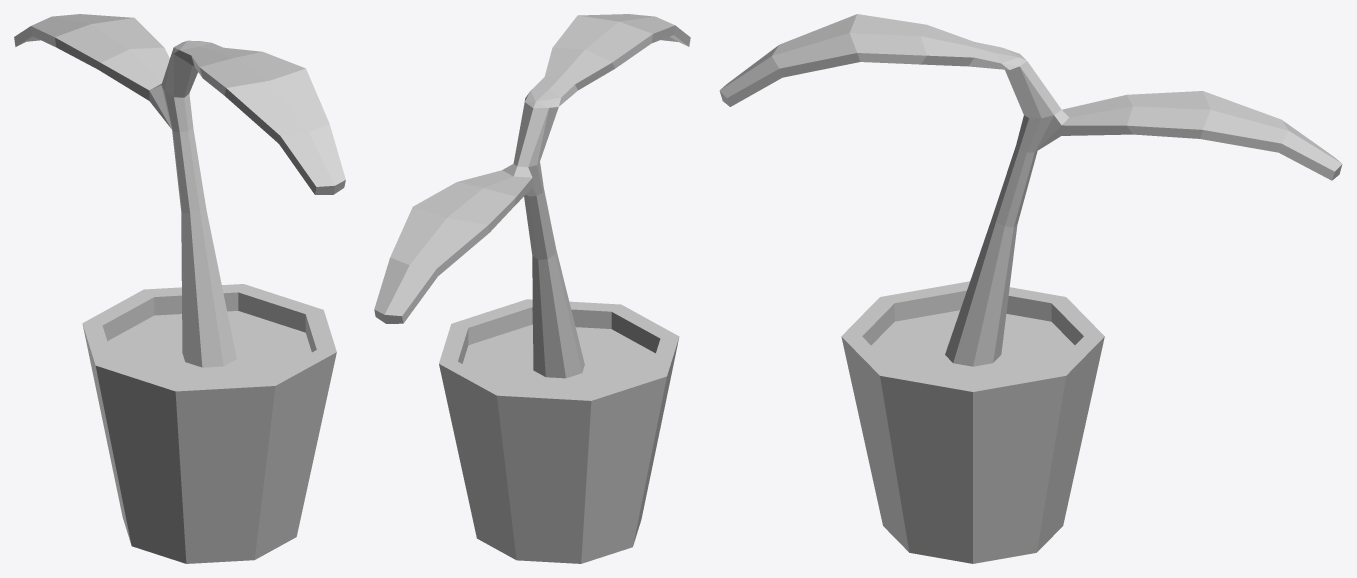
File: Plant.glb
The picture shows the model from 3 angles, left to right: view 1: azimuth 30°, elevation 25°; view 2: azimuth 150°, elevation 25°; view 3: azimuth 270°, elevation 25°; orthographic projection. The views are drawn at different scales.
Parts seen in each view (by area): view 1: Plant; view 2: Plant; view 3: Plant.
Part boxes in pixels (bbox=[...]): Plant: bbox=[14, 14, 345, 563]; Plant: bbox=[374, 14, 690, 563]; Plant: bbox=[719, 14, 1342, 563].
Bounding box in the file's own units: 0.1469 × 0.3028 × 0.3474.
Materials: 2 (2 with a texture image).
